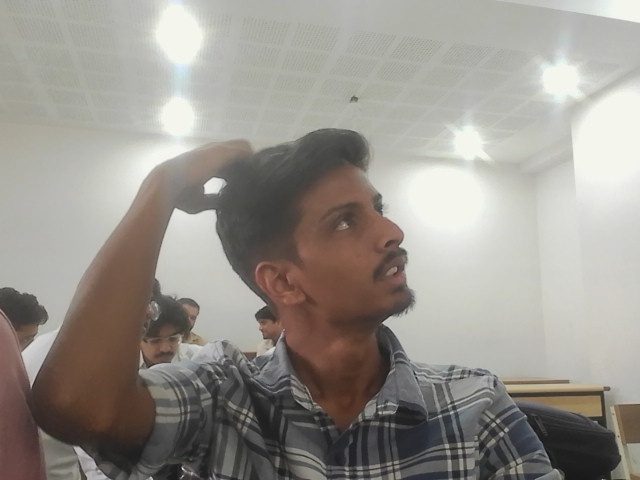light_off: (547, 233, 571, 280)
light_on: (560, 80, 639, 127), (151, 87, 203, 133), (443, 115, 493, 162), (615, 5, 636, 25)
person: (41, 126, 593, 479), (0, 288, 56, 479)
